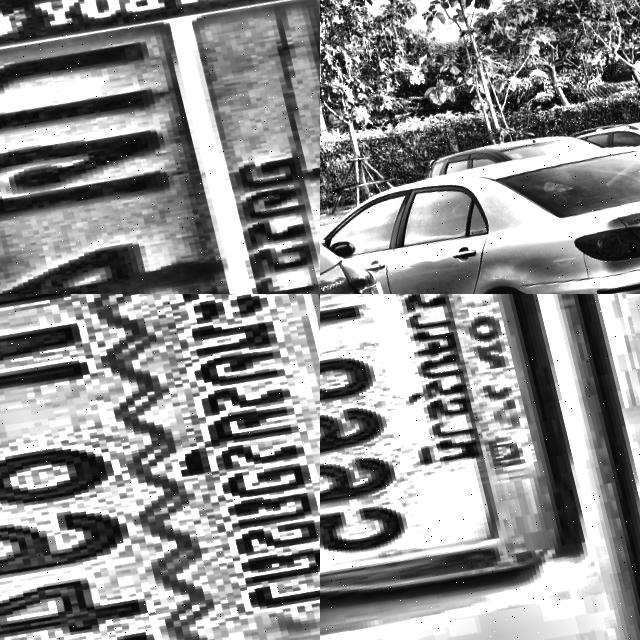license-plate: (0, 294, 320, 640), (0, 0, 320, 294), (320, 294, 584, 638), (461, 0, 516, 19)
